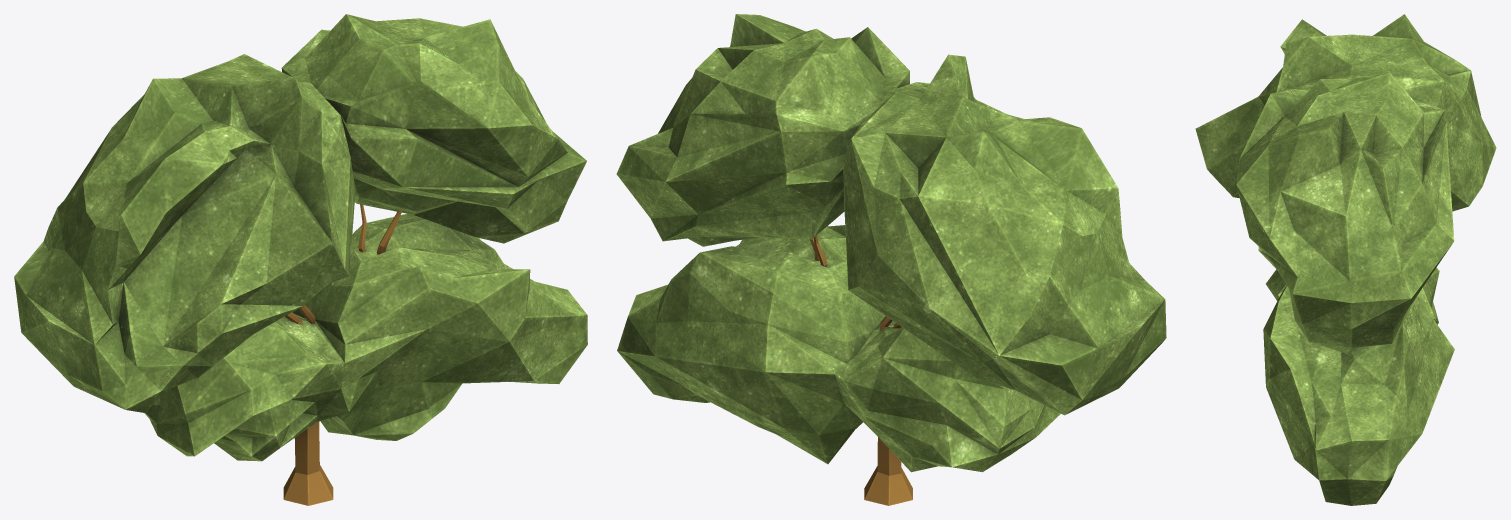
File: AshTree.gltf
3 views of the same model, side by side, from view 1: azimuth 30°, elevation 25°; view 2: azimuth 150°, elevation 25°; view 3: azimuth 270°, elevation 25° (orthographic). The views are drawn at different scales.
Parts seen in each view (by area): view 1: node-0; view 2: node-0; view 3: node-0.
Part boxes in pixels (bbox=[...]): node-0: bbox=[14, 14, 587, 505]; node-0: bbox=[616, 14, 1166, 505]; node-0: bbox=[1195, 14, 1496, 505].
Bounding box in the file's own units: 16.81 × 13.89 × 9.29.
1 material, 1 textured.
